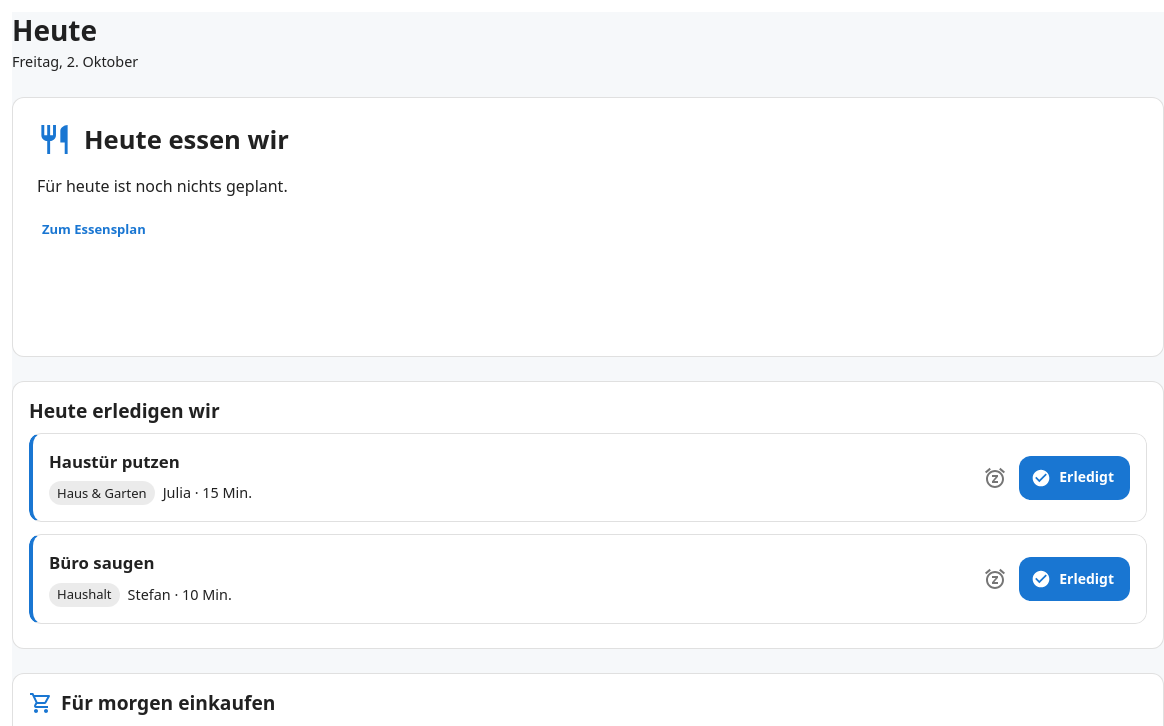
Test: completion and undo › removes the Tenner optimistically before the API answers
Click the button with aria-label "„Büro saugen“ erledigen" at (1075, 579), box [1019, 557, 1130, 601]
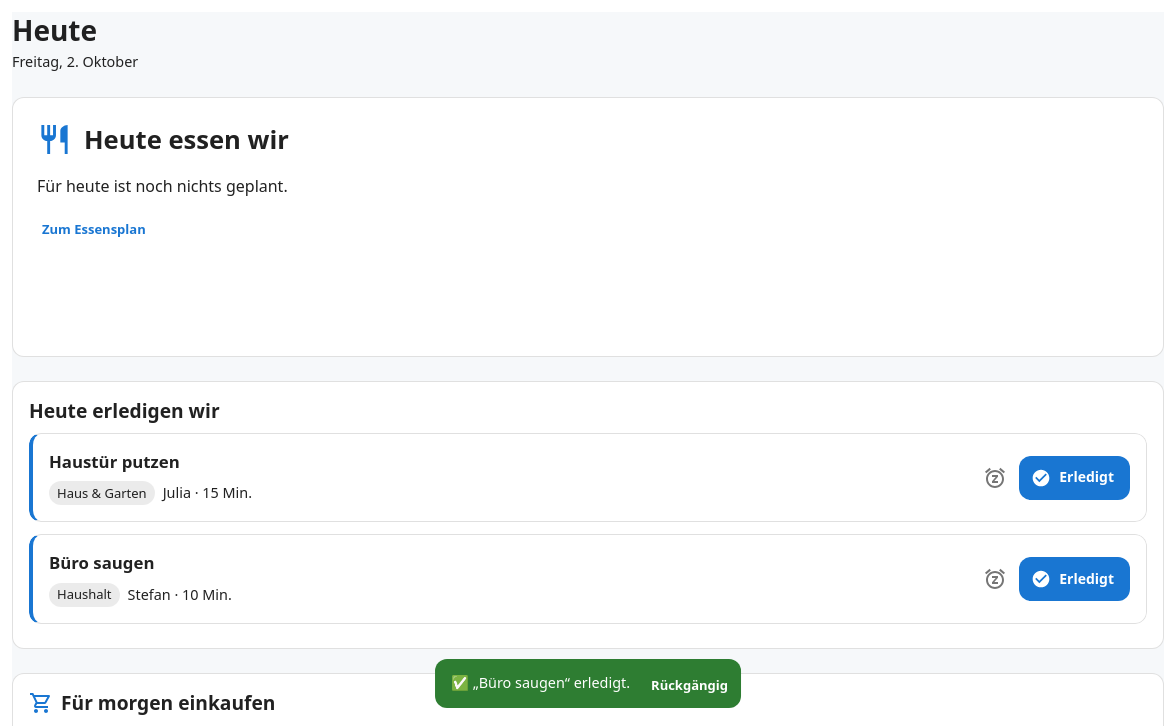
Expected: the text "✅ „Büro saugen“ erledigt." is shown, [451, 673, 630, 692]
